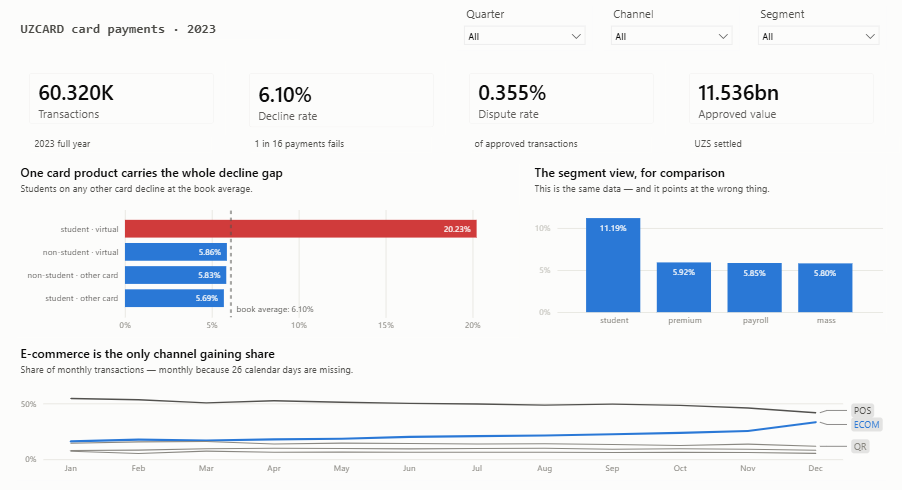

What the dashboard file says about the page in this screenshot:
{"tool":"powerbi","page":{"name":"Overview","canvas":[1280,720],"ordinal":0},"visuals":[{"type":"cardVisual","fields":{"Data":["uzcard fact_transactions.Transactions"]},"box":[24.3,102,296,106],"z":0},{"type":"textbox","box":[24,39,400,32],"z":1000},{"type":"slicer","fields":{"Values":["uzcard dim_date.quarter_name"]},"box":[648,24,192,62.7],"z":2000},{"type":"slicer","fields":{"Values":["uzcard dim_terminal.channel"]},"box":[856,24,192,62.7],"z":3000},{"type":"slicer","fields":{"Values":["uzcard dim_customer.segment"]},"box":[1064,24,192,62],"z":4000},{"type":"cardVisual","fields":{"Data":["uzcard fact_transactions.Decline rate"]},"box":[336,102,296,106],"z":5000},{"type":"cardVisual","fields":{"Data":["uzcard fact_transactions.Dispute rate"]},"box":[648,102,296,106],"z":6000},{"type":"cardVisual","fields":{"Data":["uzcard fact_transactions.Approved value"]},"box":[960,102,296,106],"z":7000},{"type":"textbox","box":[44,210,256,22],"z":8000},{"type":"textbox","box":[356,210,256,22],"z":9000},{"type":"textbox","box":[668,210,256,22],"z":10000},{"type":"textbox","box":[980,210,296,22],"z":11000},{"type":"clusteredBarChart","title":"One card product carries the whole decline gap","fields":{"Category":["uzcard dim_card.card_profile"],"Y":["uzcard fact_transactions.Decline rate"]},"box":[24,248,712,246],"z":12000},{"type":"columnChart","title":"The segment view, for comparison","fields":{"Category":["uzcard dim_customer.segment"],"Y":["uzcard fact_transactions.Decline rate"]},"box":[752,248,504,240],"z":13000},{"type":"lineChart","title":"\tE-commerce is the only channel gaining share","fields":{"Series":["uzcard dim_terminal.channel"],"Y":["uzcard fact_transactions.Share of month"],"Category":["uzcard dim_date.month_name"]},"box":[24,504,1232,192],"z":14000}]}

Visuals, with their boxes on the page's 1280x720 design canvas (x1, y1, x2, y2). These are canvas units, not pixel positions in the 902x490 screenshot, which may show the page scaled, cropped or inside an application window:
cardVisual - uzcard fact_transactions.Transactions: [x1=24, y1=102, x2=320, y2=208]
textbox: [x1=24, y1=39, x2=424, y2=71]
slicer - uzcard dim_date.quarter_name: [x1=648, y1=24, x2=840, y2=87]
slicer - uzcard dim_terminal.channel: [x1=856, y1=24, x2=1048, y2=87]
slicer - uzcard dim_customer.segment: [x1=1064, y1=24, x2=1256, y2=86]
cardVisual - uzcard fact_transactions.Decline rate: [x1=336, y1=102, x2=632, y2=208]
cardVisual - uzcard fact_transactions.Dispute rate: [x1=648, y1=102, x2=944, y2=208]
cardVisual - uzcard fact_transactions.Approved value: [x1=960, y1=102, x2=1256, y2=208]
textbox: [x1=44, y1=210, x2=300, y2=232]
textbox: [x1=356, y1=210, x2=612, y2=232]
textbox: [x1=668, y1=210, x2=924, y2=232]
textbox: [x1=980, y1=210, x2=1276, y2=232]
"One card product carries the whole decline gap" clusteredBarChart: [x1=24, y1=248, x2=736, y2=494]
"The segment view, for comparison" columnChart: [x1=752, y1=248, x2=1256, y2=488]
"	E-commerce is the only channel gaining share" lineChart: [x1=24, y1=504, x2=1256, y2=696]
